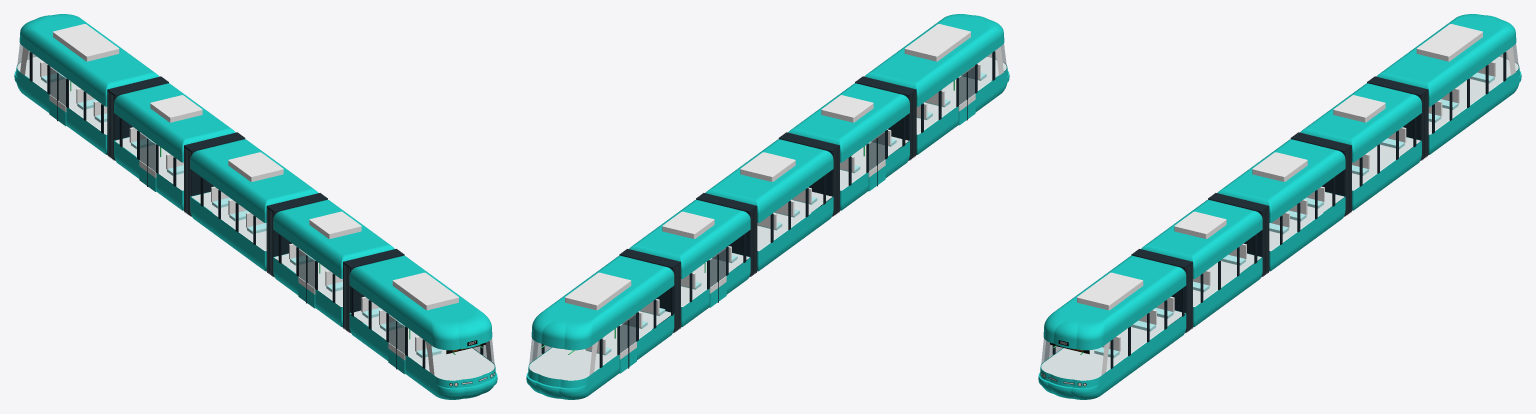
File: gag-streetcar.glb
3 views of the same model, side by side, from view 1: azimuth 30°, elevation 25°; view 2: azimuth 150°, elevation 25°; view 3: azimuth 330°, elevation 25° (orthographic).
Parts seen in each view (by area): view 1: group_1, group_192, group_103, group_145, group_56, group_96, group_138, group_185, group_49; view 2: group_192, group_1, group_103, group_56, group_145, group_138, group_96, group_49, group_185; view 3: group_1, group_192, group_103, group_145, group_56, group_138, group_96, group_185, group_49.
Part boxes in pixels (x1=…): group_1: x1=349, y1=255, x2=497, y2=399; group_192: x1=14, y1=14, x2=159, y2=154; group_103: x1=190, y1=139, x2=318, y2=271; group_145: x1=114, y1=83, x2=235, y2=210; group_56: x1=273, y1=199, x2=394, y2=327; group_96: x1=266, y1=193, x2=327, y2=277; group_138: x1=184, y1=132, x2=245, y2=216; group_185: x1=107, y1=76, x2=168, y2=160; group_49: x1=343, y1=249, x2=404, y2=332; group_192: x1=526, y1=255, x2=674, y2=399; group_1: x1=864, y1=14, x2=1009, y2=154; group_103: x1=705, y1=139, x2=833, y2=271; group_56: x1=788, y1=83, x2=909, y2=210; group_145: x1=629, y1=199, x2=750, y2=327; group_138: x1=696, y1=193, x2=757, y2=277; group_96: x1=778, y1=132, x2=839, y2=216; group_49: x1=855, y1=76, x2=916, y2=160; group_185: x1=619, y1=249, x2=680, y2=332; group_1: x1=1038, y1=255, x2=1186, y2=399; group_192: x1=1376, y1=14, x2=1521, y2=154; group_103: x1=1217, y1=139, x2=1345, y2=271; group_145: x1=1300, y1=83, x2=1421, y2=210; group_56: x1=1141, y1=199, x2=1262, y2=327; group_138: x1=1290, y1=132, x2=1351, y2=216; group_96: x1=1208, y1=193, x2=1269, y2=277; group_185: x1=1367, y1=76, x2=1428, y2=160; group_49: x1=1131, y1=249, x2=1192, y2=332.
Bounding box in the file's own units: 2.7 × 3.2 × 34.91.
31 materials, 3 textured.
